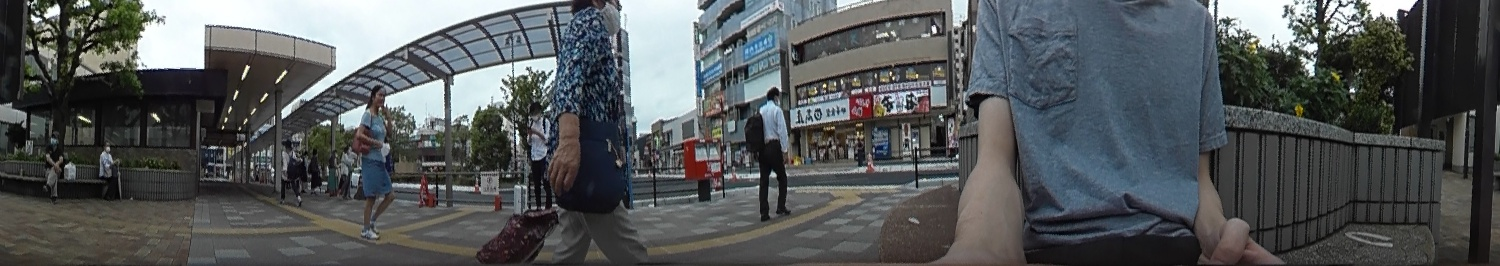difficult_person: (342, 144, 356, 198), (326, 148, 340, 196), (310, 146, 319, 195), (300, 149, 308, 194), (854, 136, 866, 165)
person: (546, 0, 643, 266), (356, 81, 394, 240), (756, 87, 792, 219), (43, 131, 66, 201), (279, 136, 301, 207), (95, 141, 120, 201)
